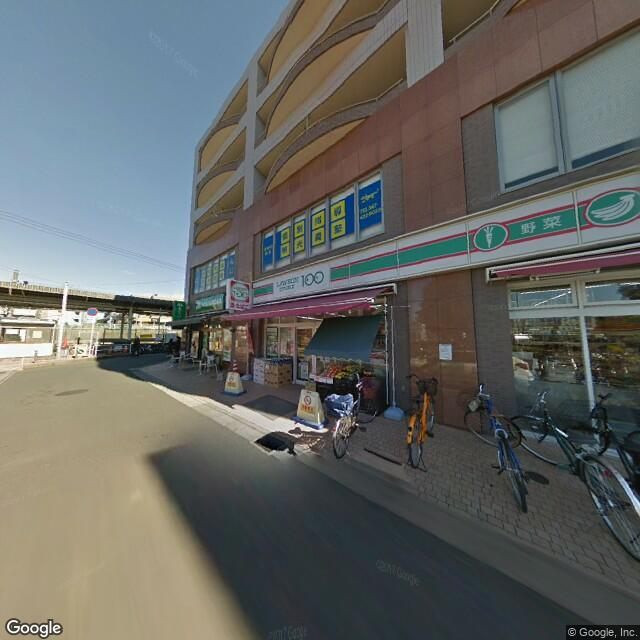lawson: (254, 169, 638, 312), (228, 278, 249, 305)
